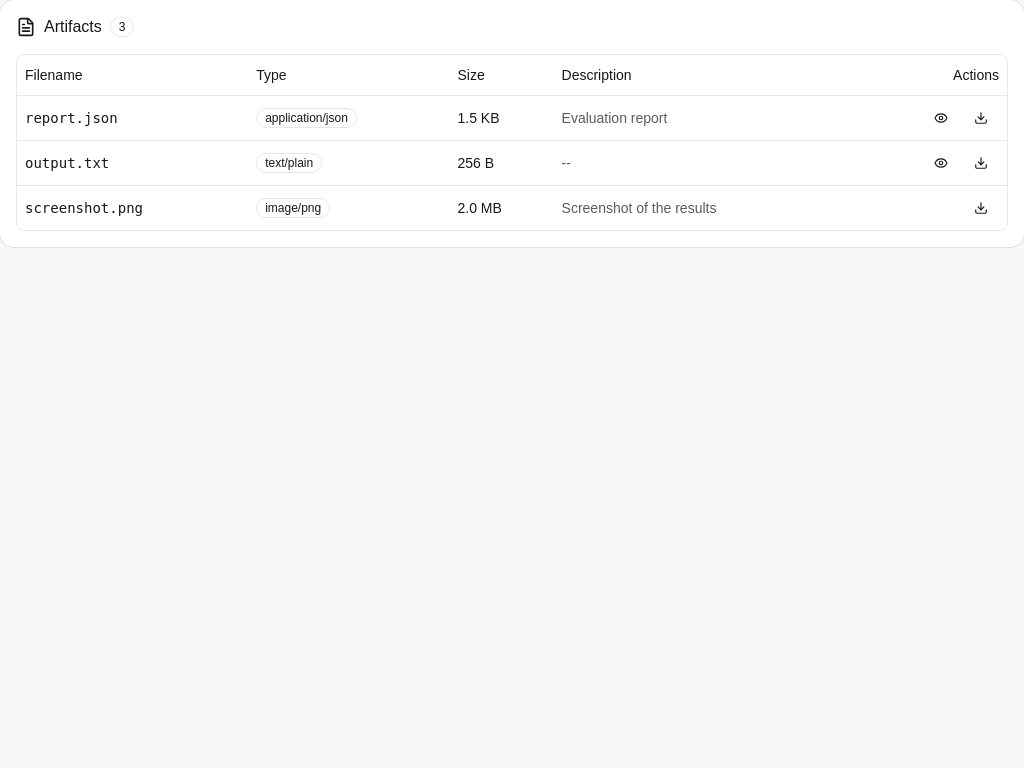
Scenario: ArtifactsList › shows error in preview dialog when preview API fails
The width and height of the screenshot is (1024, 768).
expect the text "report.json" is shown: met, box [17,95,248,140]
Click the button titled "Preview" in the row of "report.json".
click(941, 118)  # box [923,104,959,132]
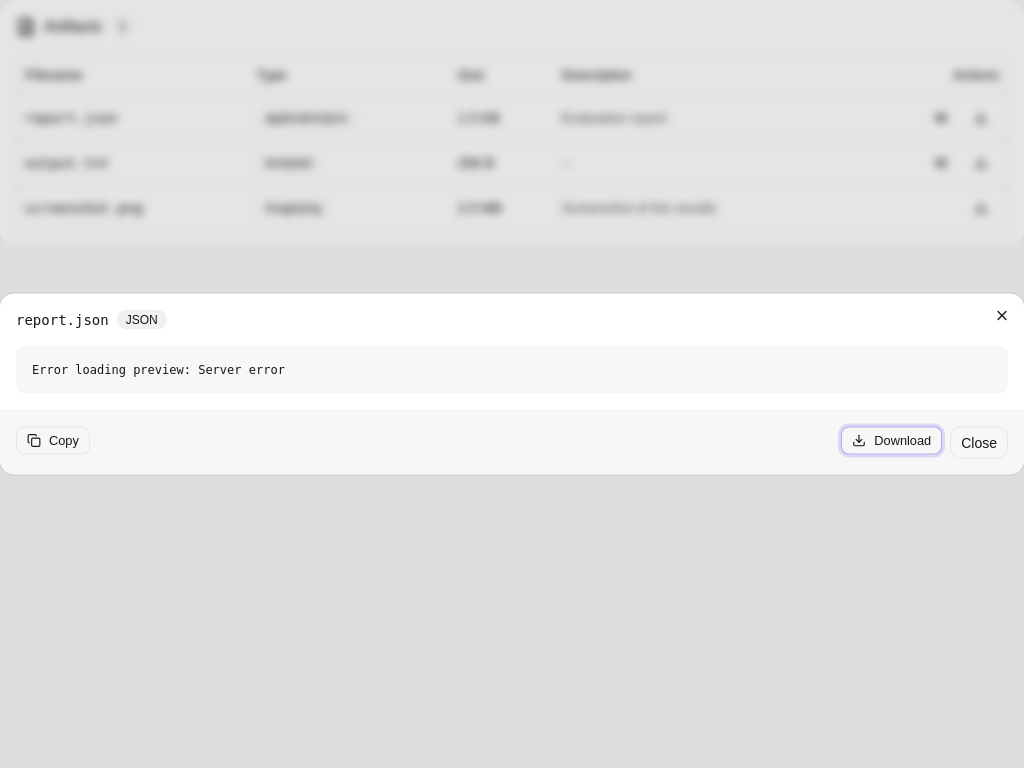
expect the text "Error loading preview: Server error" is shown: met, box [16,346,1008,394]
